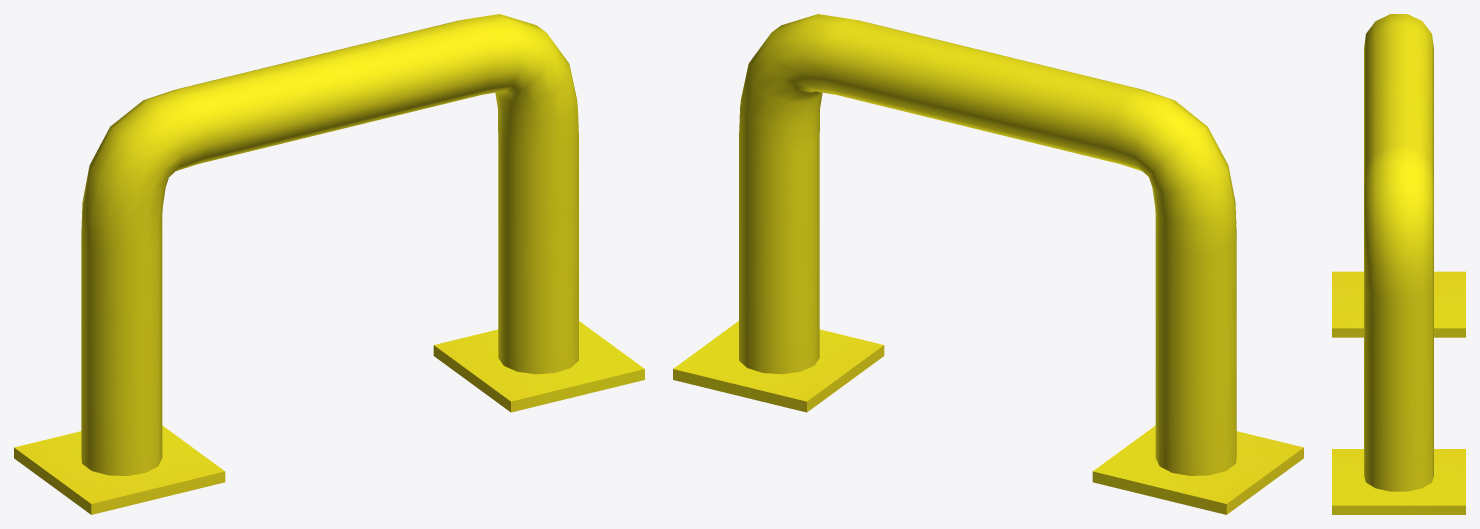
The model's file is U_Barricade.fbx.
3 renders of one model, left to right at view 1: azimuth 30°, elevation 25°; view 2: azimuth 150°, elevation 25°; view 3: azimuth 270°, elevation 25°, orthographic. The views are drawn at different scales.
Parts seen in each view (by area): view 1: U_Barricade; view 2: U_Barricade; view 3: U_Barricade.
Part boxes in pixels (x1=…): U_Barricade: x1=14, y1=14, x2=644, y2=514; U_Barricade: x1=673, y1=14, x2=1303, y2=514; U_Barricade: x1=1332, y1=14, x2=1465, y2=514.
Bounding box in the file's own units: 128 × 79.72 × 30.87.
1 material, 1 textured.
